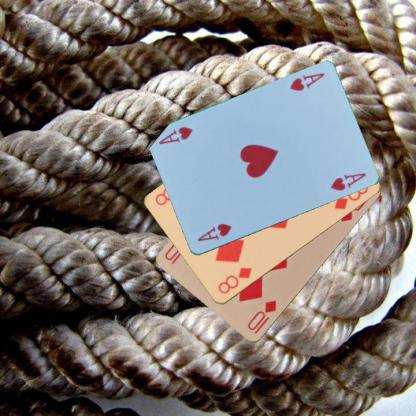10d: (244, 298, 278, 336)
8d: (215, 264, 253, 296)
Ah: (286, 71, 326, 93), (195, 221, 233, 244)
